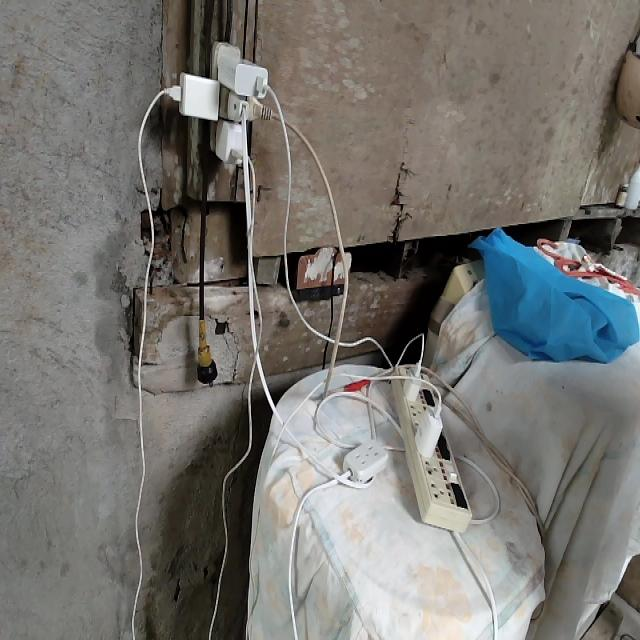-: (173, 39, 273, 165)
